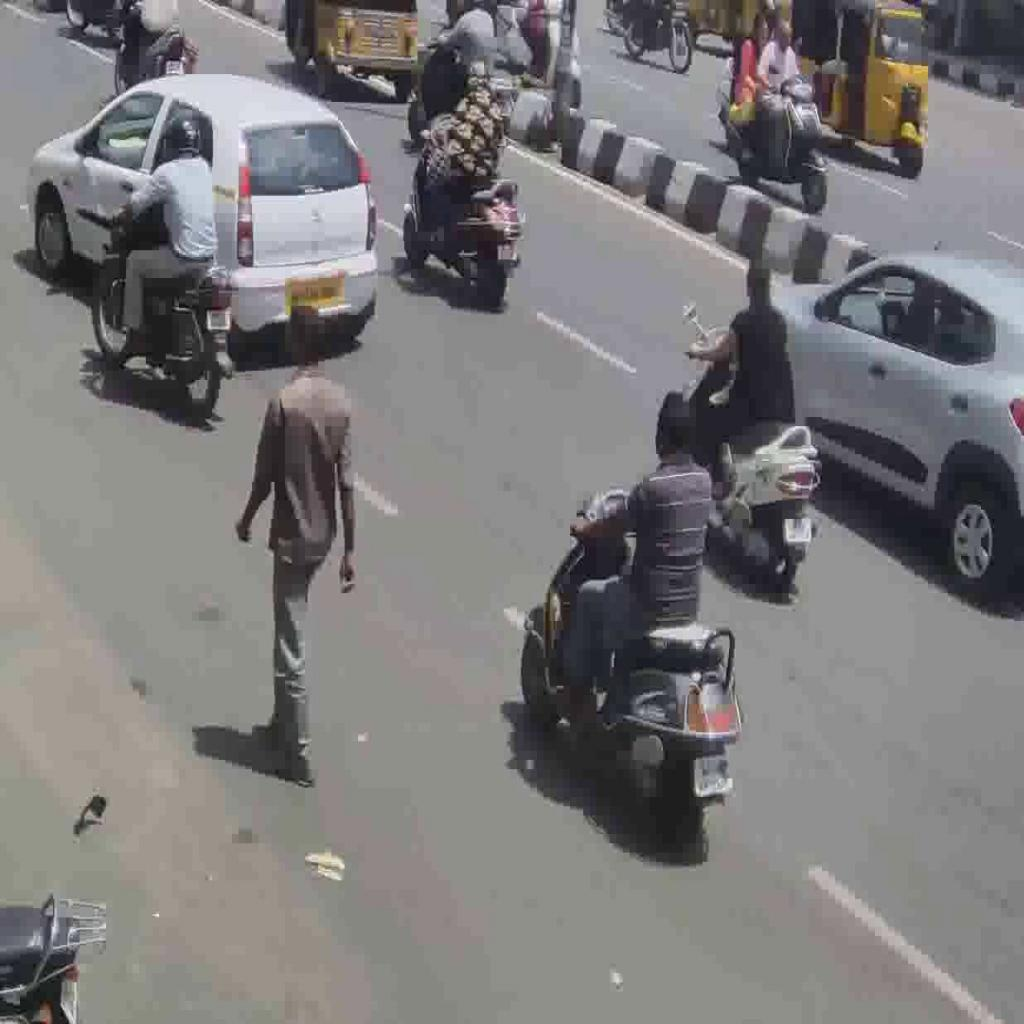helmet: (520, 486, 744, 848), (678, 320, 820, 590), (91, 196, 237, 419), (403, 113, 525, 305)
